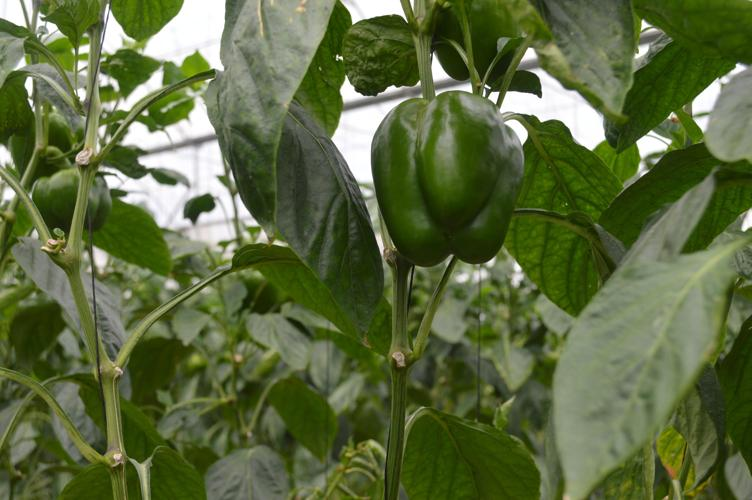BellPepper: (370, 95, 523, 271), (29, 170, 107, 235), (2, 115, 73, 172)
